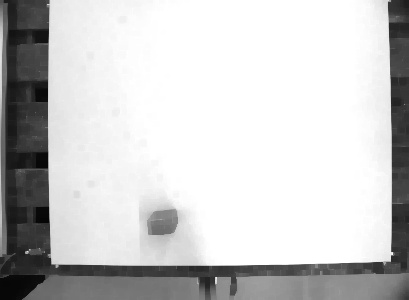b1: (145, 207, 179, 237)
